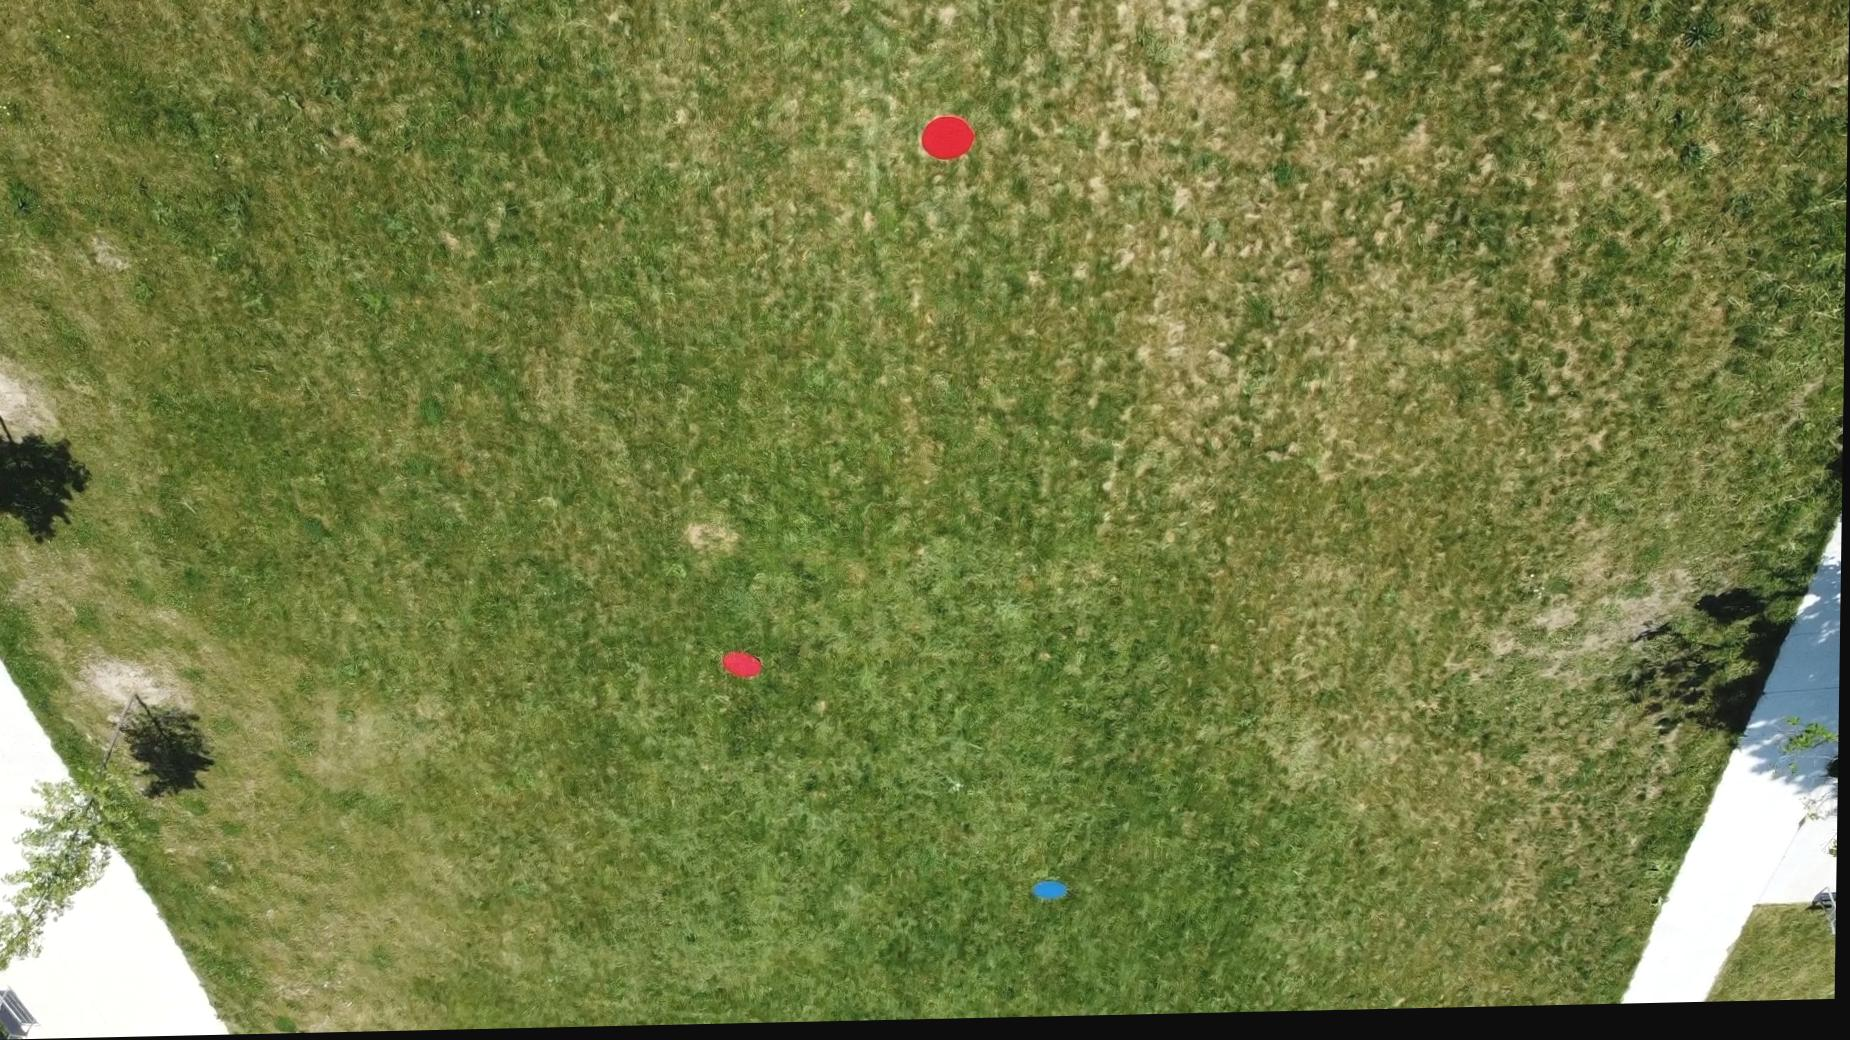Blue: (1032, 883, 1074, 908)
Red: (917, 116, 977, 168), (720, 650, 767, 682)
